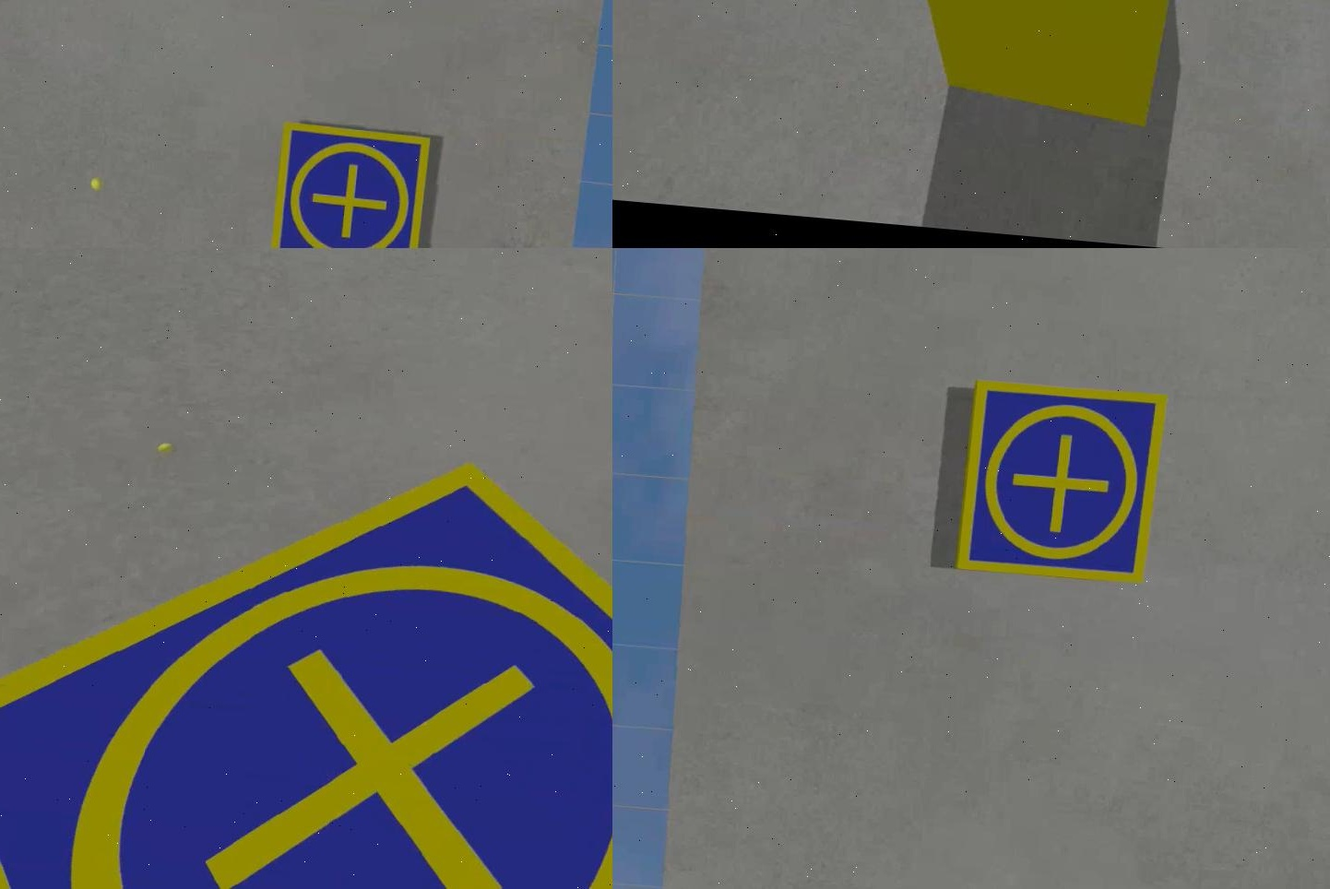small_base: (0, 413, 611, 889), (948, 374, 1170, 590), (265, 121, 431, 249)
